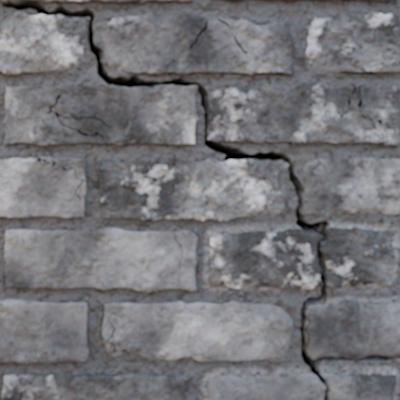brick: (5, 228, 196, 291), (209, 83, 399, 146), (103, 13, 293, 74), (97, 160, 286, 220), (5, 86, 197, 145), (102, 301, 292, 360), (303, 158, 399, 216), (306, 13, 399, 72), (0, 300, 87, 362), (0, 13, 88, 74), (0, 158, 85, 217), (1, 373, 188, 399), (45, 157, 86, 178), (94, 0, 192, 3), (35, 0, 79, 2), (1, 0, 26, 2)
broken_brick: (209, 228, 320, 290), (307, 299, 399, 358), (322, 226, 396, 289), (206, 372, 323, 399), (325, 371, 396, 399)
crack: (2, 0, 397, 399), (339, 83, 385, 129), (32, 157, 86, 193), (102, 321, 127, 352), (172, 231, 183, 267), (216, 18, 229, 26), (17, 390, 22, 399), (192, 230, 198, 236)
